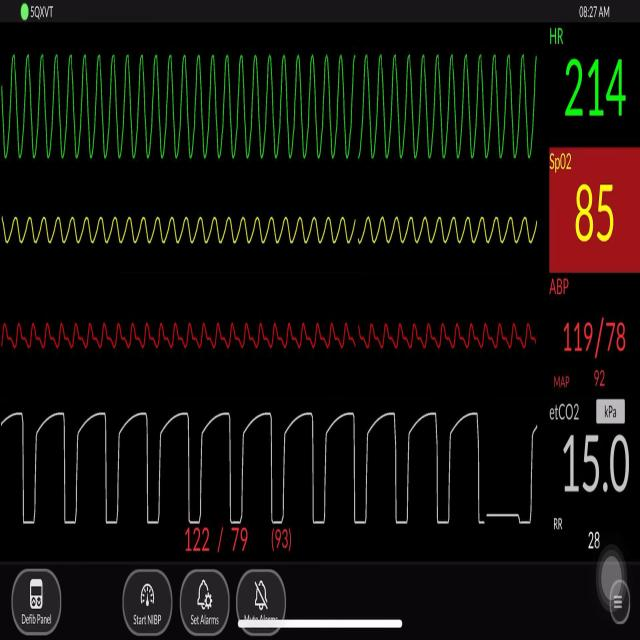danger: (13, 40, 542, 169)
